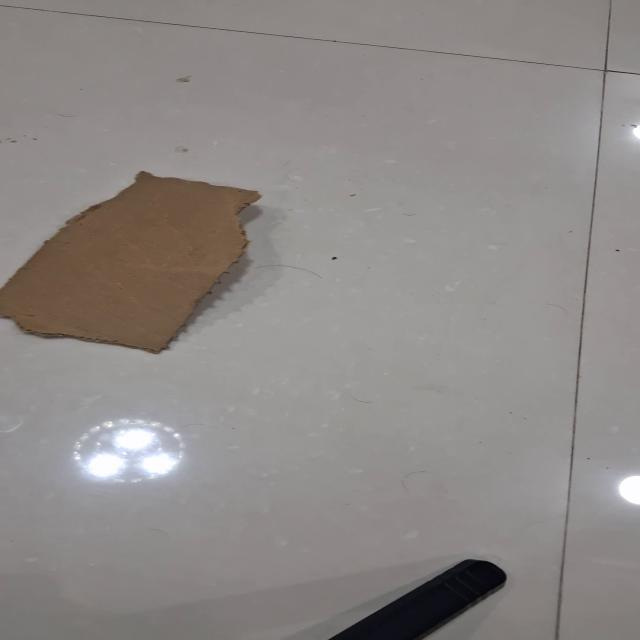paper: (1, 170, 262, 354)
